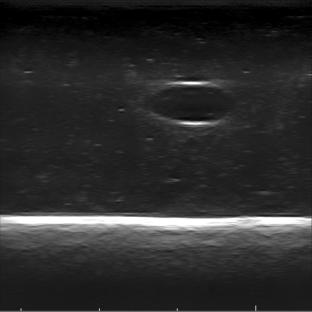vessel: (148, 80, 236, 128)
